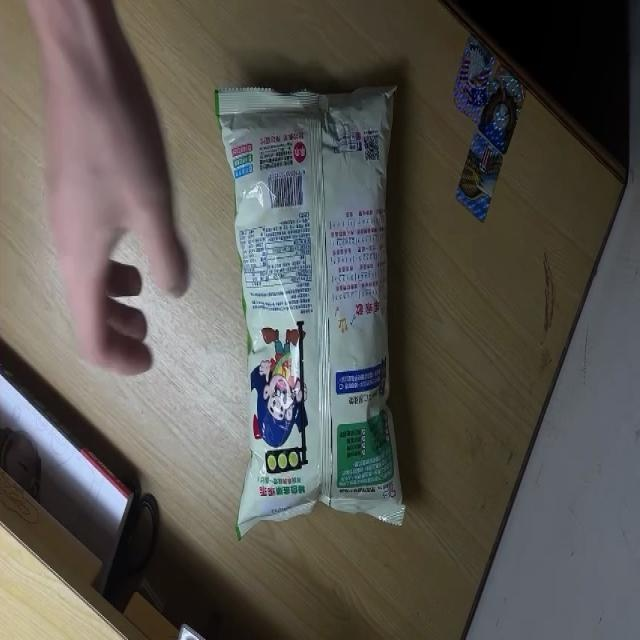Good-Luck: (214, 77, 405, 542)
